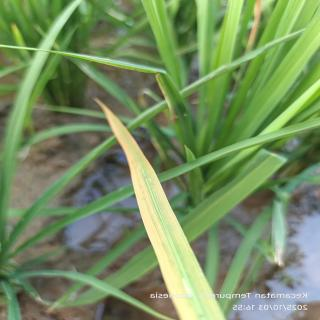Hawar-Daun: (106, 112, 187, 293), (100, 102, 191, 250)
